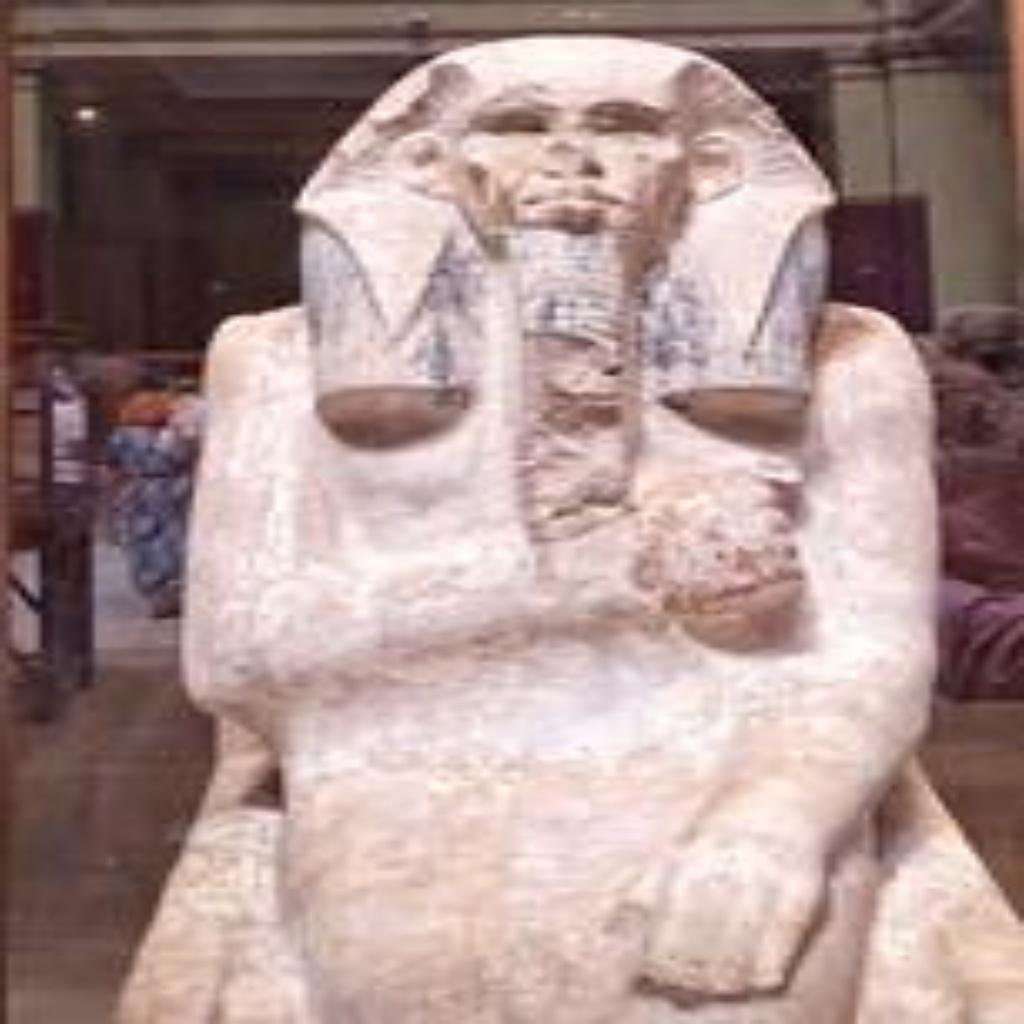Statue of King Zoser: (100, 30, 1018, 1020)
